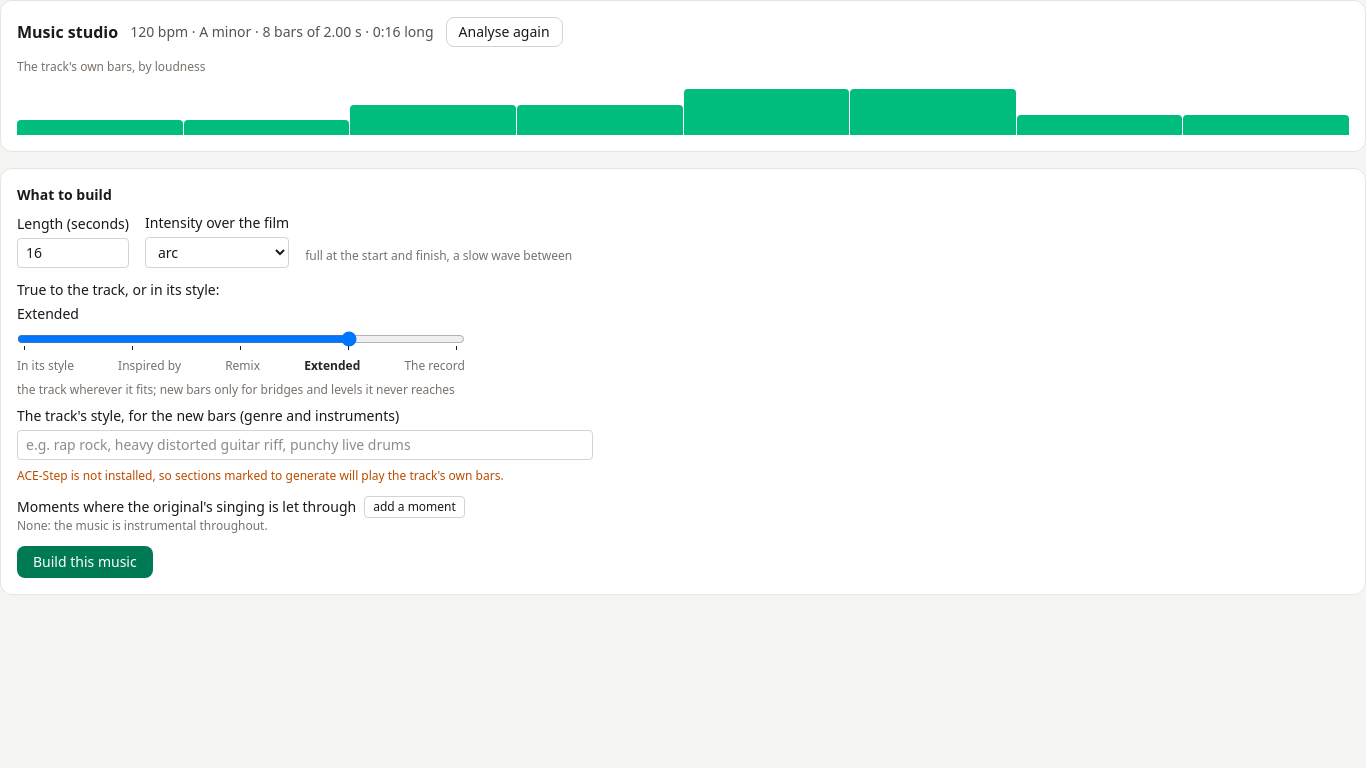
Scenario: MusicStudio › shows a build that refused to start
Click the button "Build this music": [85, 562] box left=17, top=546, right=153, bottom=578
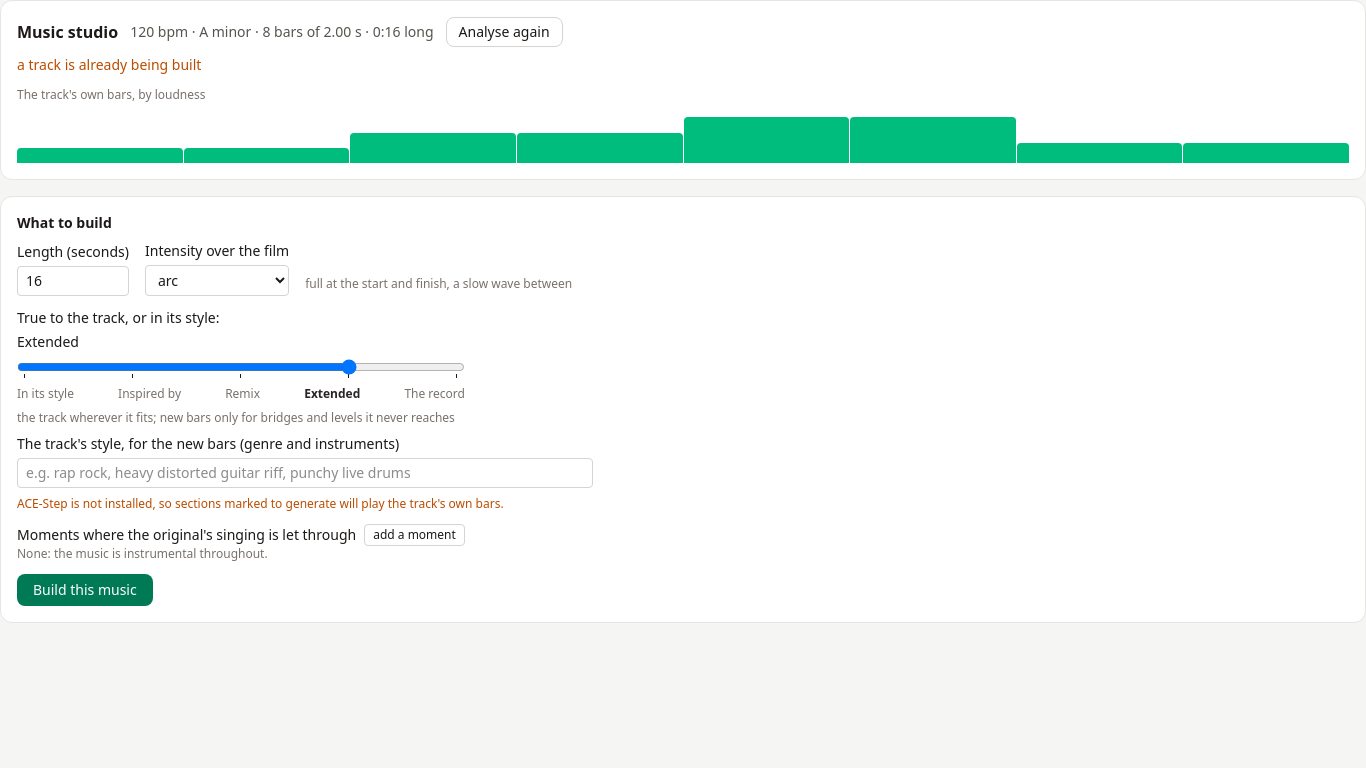
Result: the message shows "already being built" at left=17, top=55, right=201, bottom=74
